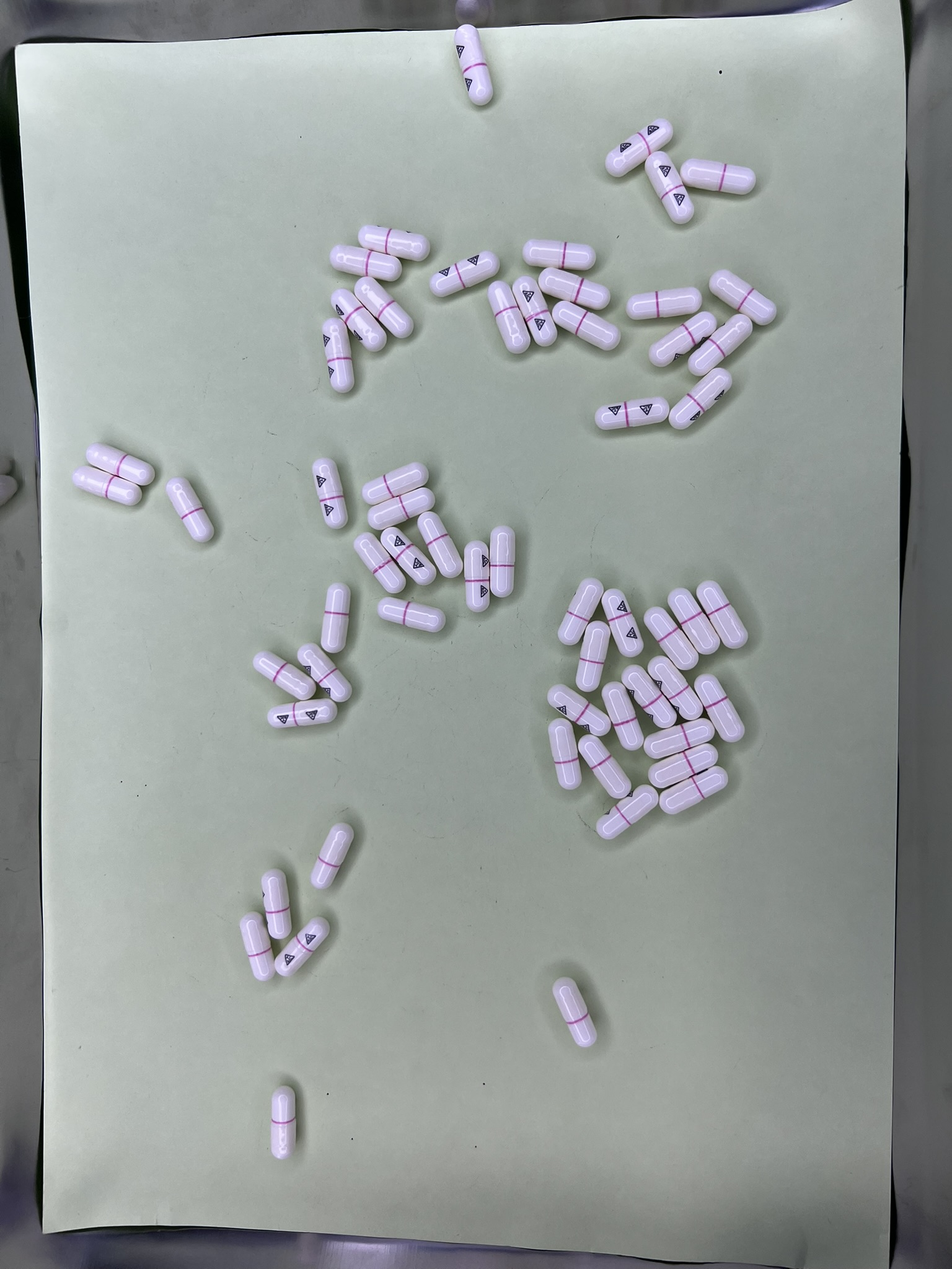Capsule: (687, 314, 753, 376), (605, 119, 672, 178), (709, 268, 778, 325), (353, 275, 414, 339), (329, 287, 387, 353), (620, 663, 678, 729), (644, 150, 695, 225), (650, 311, 718, 367), (698, 579, 751, 650), (647, 655, 704, 721), (671, 369, 734, 428), (667, 587, 720, 656), (644, 606, 700, 671), (576, 732, 630, 798), (553, 301, 621, 352), (695, 675, 746, 743), (275, 915, 329, 979), (381, 528, 436, 590), (547, 684, 609, 739), (648, 743, 719, 790), (430, 251, 501, 298), (658, 768, 727, 816), (298, 641, 351, 703), (355, 532, 407, 595), (252, 650, 315, 702), (511, 275, 556, 347), (599, 786, 659, 840), (537, 267, 611, 310), (552, 976, 596, 1048), (557, 578, 604, 645), (487, 280, 530, 353), (165, 478, 213, 543), (417, 512, 462, 580), (454, 23, 492, 103), (362, 462, 431, 506), (602, 680, 645, 750), (644, 717, 714, 760), (70, 464, 140, 507), (367, 485, 435, 529), (86, 442, 154, 486), (309, 824, 353, 890), (601, 589, 643, 657), (680, 158, 756, 195), (330, 245, 403, 283), (359, 225, 430, 262), (313, 456, 349, 528), (378, 599, 445, 636), (626, 287, 701, 320), (239, 913, 274, 983), (321, 318, 354, 392), (595, 397, 668, 430), (576, 622, 610, 692), (548, 719, 581, 790), (523, 239, 597, 270), (268, 697, 339, 729), (261, 868, 292, 939), (269, 1086, 297, 1161), (322, 583, 351, 652), (464, 540, 491, 613), (489, 526, 517, 596)
